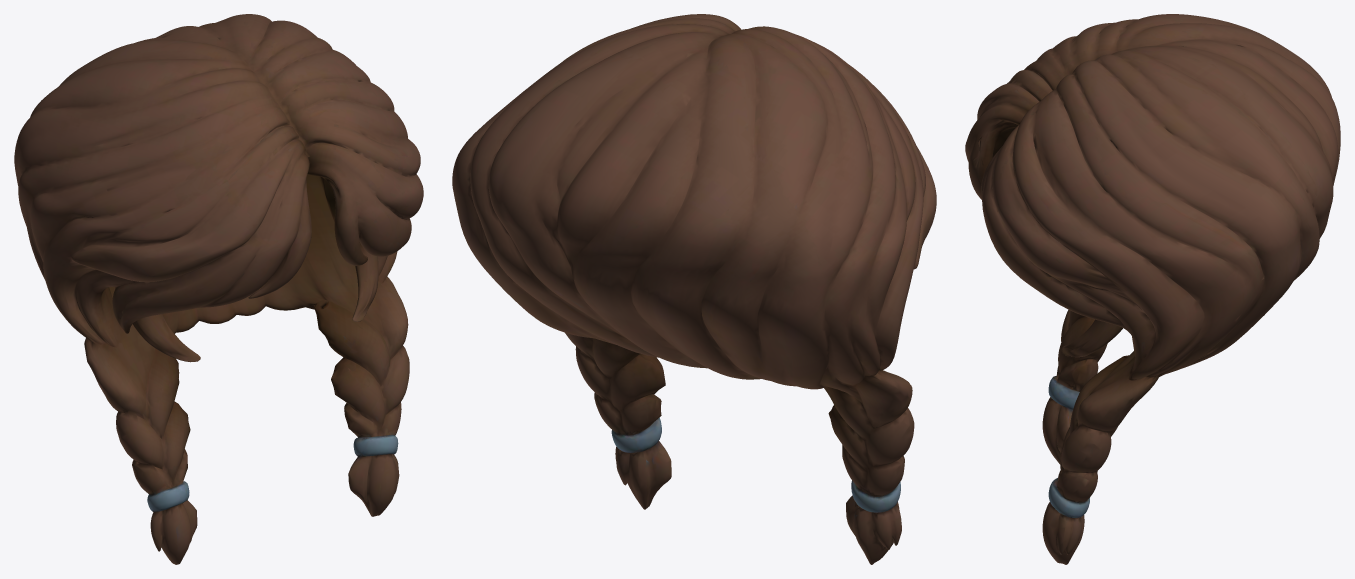
Rendered from hair_braids.glb.
The picture shows the model from 3 angles, left to right: view 1: azimuth 30°, elevation 25°; view 2: azimuth 150°, elevation 25°; view 3: azimuth 270°, elevation 25°; orthographic projection. The views are drawn at different scales.
Parts seen in each view (by area): view 1: hair; view 2: hair; view 3: hair.
Part boxes in pixels (x1,y1,x2,y2): hair: [14, 14, 423, 564]; hair: [452, 14, 936, 564]; hair: [965, 14, 1340, 564].
Size of the model in its own units: 3.04 by 3.8 by 2.72.
Materials: 2 (2 with a texture image).
